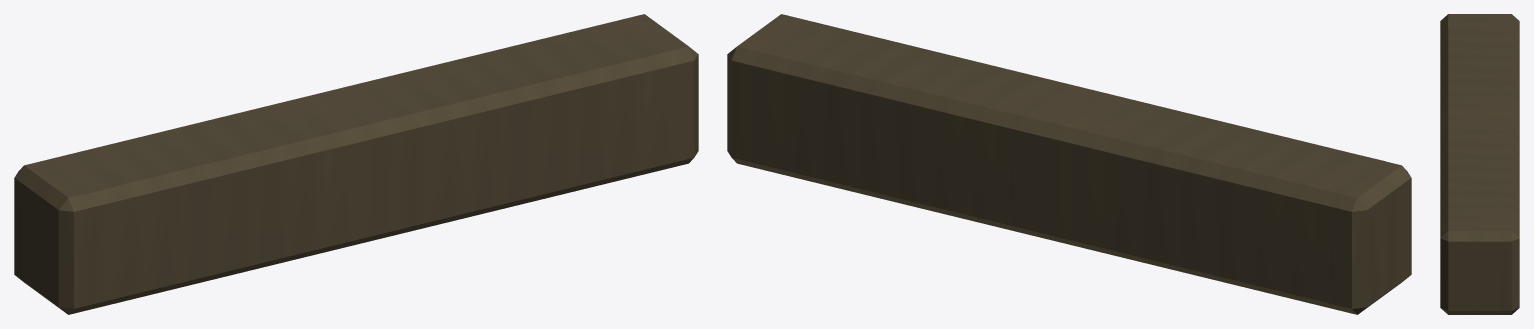
Rendered from WarrensC_CCS86_TimberSupportBeam_Mars_SM.fbx.
3 renders of one model, left to right at view 1: azimuth 30°, elevation 25°; view 2: azimuth 150°, elevation 25°; view 3: azimuth 270°, elevation 25°, orthographic. The views are drawn at different scales.
Visible parts, largest first — view 1: WarrensC_CCS86_TimberSupportBeam_Mars_SM.001; view 2: WarrensC_CCS86_TimberSupportBeam_Mars_SM.001; view 3: WarrensC_CCS86_TimberSupportBeam_Mars_SM.001.
Part boxes in pixels (x1,y1,x2,y2): WarrensC_CCS86_TimberSupportBeam_Mars_SM.001: (14,14,698,314); WarrensC_CCS86_TimberSupportBeam_Mars_SM.001: (727,14,1411,314); WarrensC_CCS86_TimberSupportBeam_Mars_SM.001: (1440,14,1519,314).
Bounding box in the file's own units: 200 × 30 × 35.
